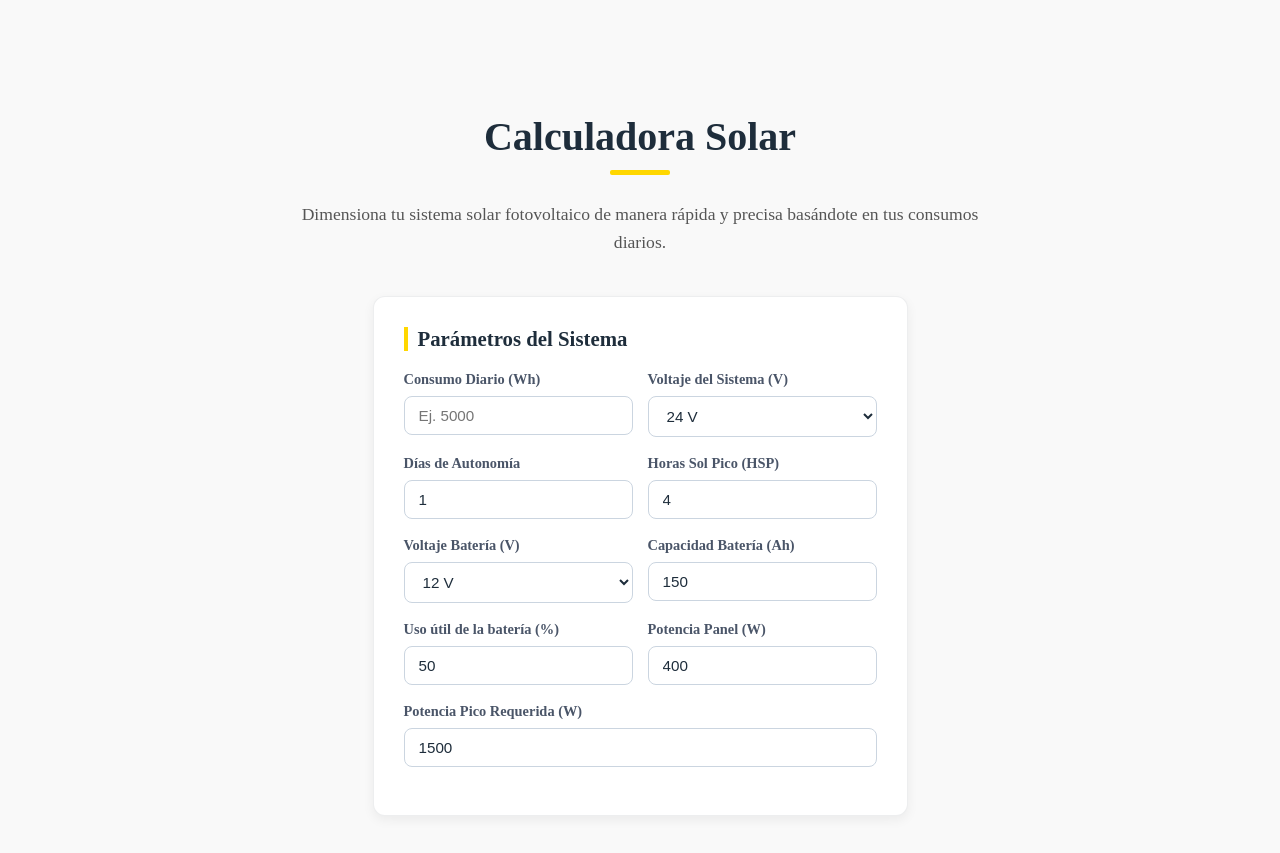
Test: CalculadoraSolar › muestra el error del API si el cálculo falla
Type "100" into the number field with placeholder "Ej. 5000" at [518, 416], box [404,396,632,436]
(page scrolled)
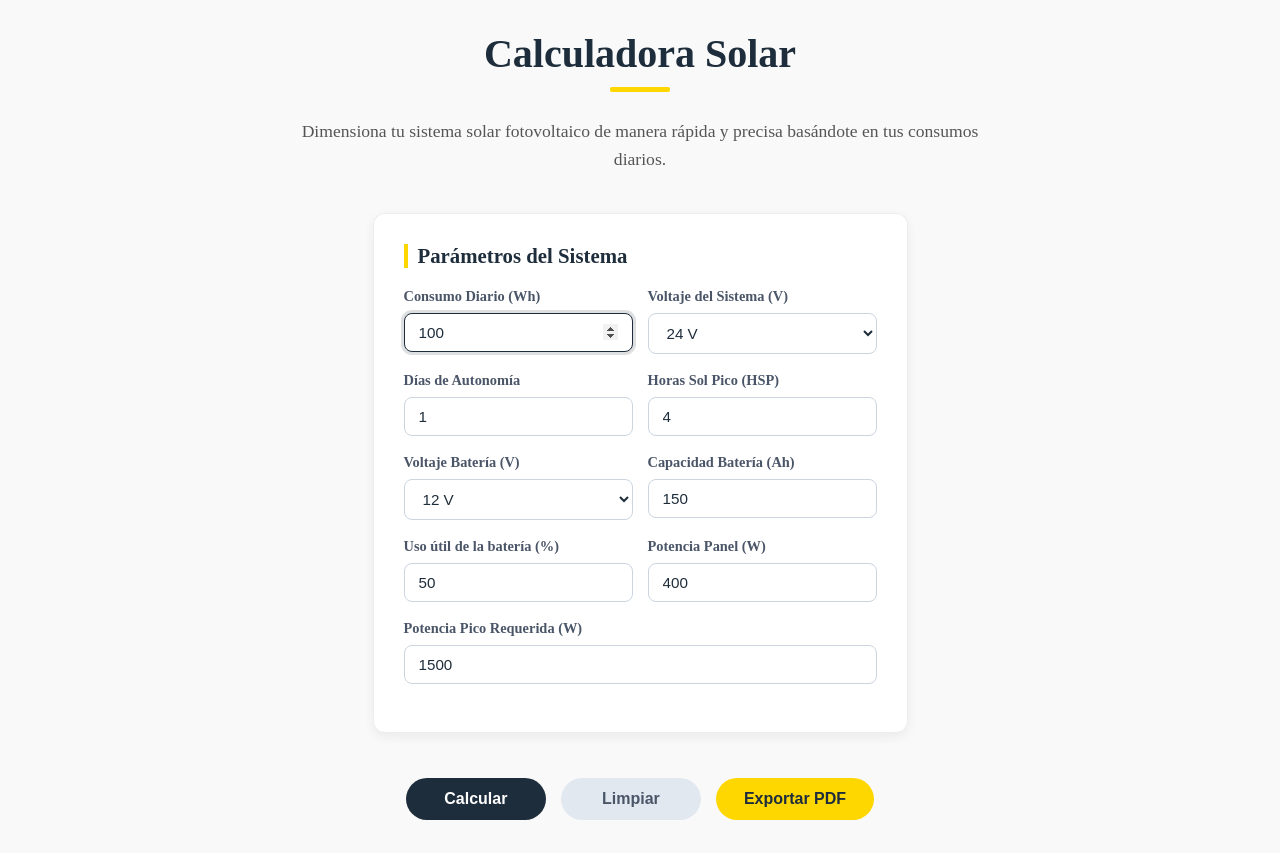
Click the button "Calcular" at [476, 800], box [406,778,546,820]
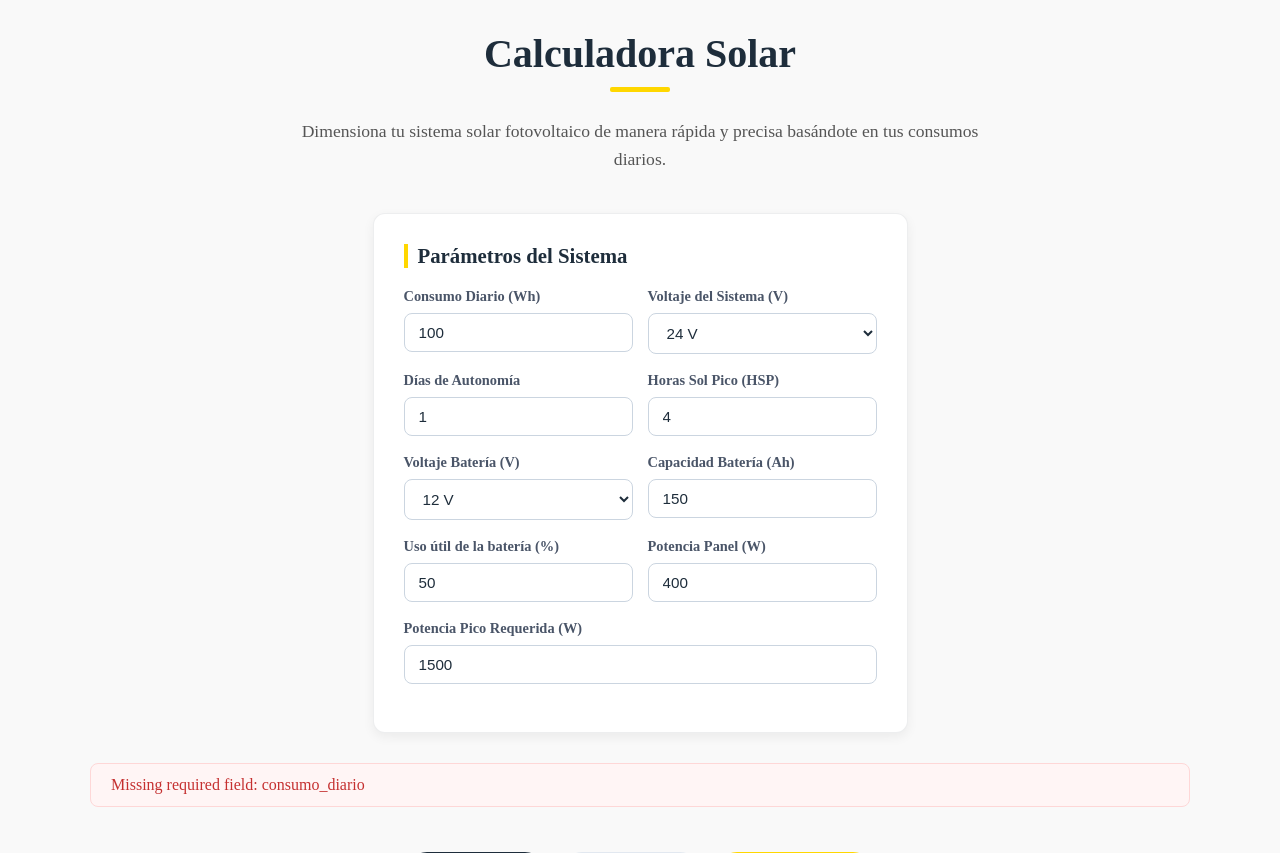
Expected: the text "Missing required field: consumo_diario" is shown, [90,764,1190,808]
